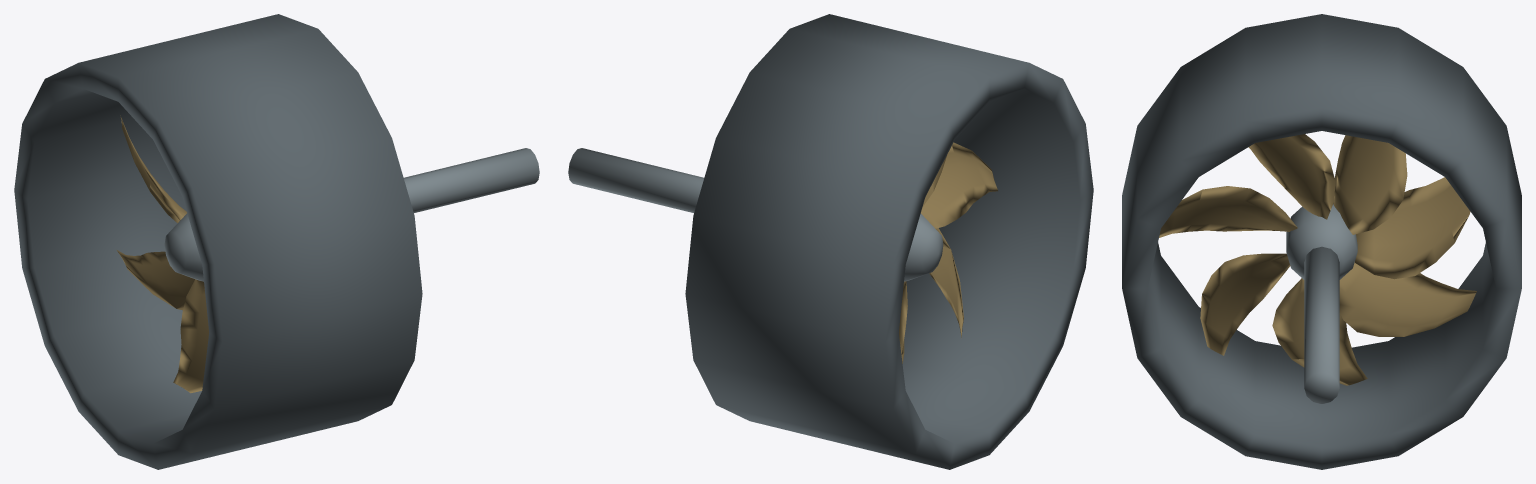
Rendered from RU_PROP_Typhoon_LOD2.fbx.
The picture shows the model from 3 angles, left to right: view 1: azimuth 30°, elevation 25°; view 2: azimuth 150°, elevation 25°; view 3: azimuth 270°, elevation 25°; orthographic projection. The views are drawn at different scales.
Visible parts, largest first — view 1: RU_PROP_Typhoon_LOD2_Shroud.001, RU_PROP_Typhoon_LOD2_Shaft.001, RU_PROP_Typhoon_LOD2_Blade_05.001, RU_PROP_Typhoon_LOD2_Blade_06.001, RU_PROP_Typhoon_LOD2_Hub.001, RU_PROP_Typhoon_LOD2_Blade_00.001; view 2: RU_PROP_Typhoon_LOD2_Shroud.001, RU_PROP_Typhoon_LOD2_Shaft.001, RU_PROP_Typhoon_LOD2_Blade_03.001, RU_PROP_Typhoon_LOD2_Hub.001, RU_PROP_Typhoon_LOD2_Blade_04.001; view 3: RU_PROP_Typhoon_LOD2_Shroud.001, RU_PROP_Typhoon_LOD2_Blade_00.001, RU_PROP_Typhoon_LOD2_Blade_06.001, RU_PROP_Typhoon_LOD2_Blade_01.001, RU_PROP_Typhoon_LOD2_Shaft.001, RU_PROP_Typhoon_LOD2_Blade_04.001, RU_PROP_Typhoon_LOD2_Blade_03.001, RU_PROP_Typhoon_LOD2_Blade_02.001, RU_PROP_Typhoon_LOD2_Hub.001, RU_PROP_Typhoon_LOD2_Blade_05.001.
Boxes of the visible parts, bbox=[...] form: RU_PROP_Typhoon_LOD2_Shroud.001: bbox=[14, 14, 422, 469]; RU_PROP_Typhoon_LOD2_Shaft.001: bbox=[403, 148, 539, 212]; RU_PROP_Typhoon_LOD2_Blade_05.001: bbox=[173, 279, 208, 393]; RU_PROP_Typhoon_LOD2_Blade_06.001: bbox=[117, 250, 194, 310]; RU_PROP_Typhoon_LOD2_Hub.001: bbox=[164, 213, 203, 281]; RU_PROP_Typhoon_LOD2_Blade_00.001: bbox=[120, 115, 186, 223]; RU_PROP_Typhoon_LOD2_Shroud.001: bbox=[685, 14, 1093, 469]; RU_PROP_Typhoon_LOD2_Shaft.001: bbox=[568, 148, 704, 212]; RU_PROP_Typhoon_LOD2_Blade_03.001: bbox=[921, 142, 997, 228]; RU_PROP_Typhoon_LOD2_Hub.001: bbox=[904, 213, 943, 281]; RU_PROP_Typhoon_LOD2_Blade_04.001: bbox=[929, 228, 963, 338]; RU_PROP_Typhoon_LOD2_Shroud.001: bbox=[1122, 14, 1521, 469]; RU_PROP_Typhoon_LOD2_Blade_00.001: bbox=[1355, 177, 1470, 279]; RU_PROP_Typhoon_LOD2_Blade_06.001: bbox=[1339, 262, 1476, 336]; RU_PROP_Typhoon_LOD2_Blade_01.001: bbox=[1333, 135, 1407, 234]; RU_PROP_Typhoon_LOD2_Shaft.001: bbox=[1304, 246, 1339, 403]; RU_PROP_Typhoon_LOD2_Blade_04.001: bbox=[1200, 253, 1290, 355]; RU_PROP_Typhoon_LOD2_Blade_03.001: bbox=[1159, 186, 1297, 237]; RU_PROP_Typhoon_LOD2_Blade_02.001: bbox=[1248, 134, 1335, 219]; RU_PROP_Typhoon_LOD2_Hub.001: bbox=[1286, 204, 1357, 279]; RU_PROP_Typhoon_LOD2_Blade_05.001: bbox=[1272, 278, 1367, 385].
Bounding box in the file's own units: 800 × 700 × 700.
